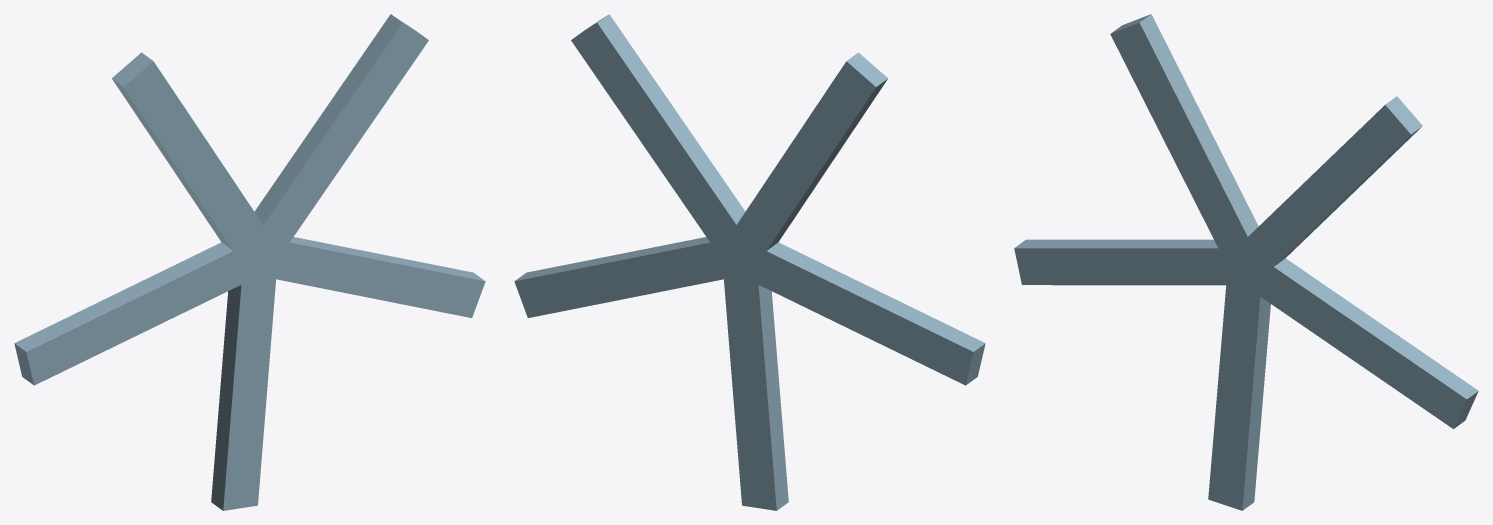
File: ventilador_fuente.obj
The picture shows the model from 3 angles, left to right: view 1: azimuth 30°, elevation 25°; view 2: azimuth 150°, elevation 25°; view 3: azimuth 330°, elevation 25°; orthographic projection.
Parts seen in each view (by area): view 1: ventilador_fuente.005, ventilador_fuente.003, ventilador_fuente.002, ventilador_fuente.004, ventilador_fuente.001; view 2: ventilador_fuente.003, ventilador_fuente.005, ventilador_fuente.002, ventilador_fuente.004, ventilador_fuente.001; view 3: ventilador_fuente.004, ventilador_fuente.001, ventilador_fuente.002, ventilador_fuente.003, ventilador_fuente.005.
Part boxes in pixels (left/top/right/bottom): ventilador_fuente.005: left=252, top=14, right=428, bottom=264; ventilador_fuente.003: left=14, top=240, right=264, bottom=385; ventilador_fuente.002: left=211, top=259, right=275, bottom=510; ventilador_fuente.004: left=112, top=52, right=262, bottom=250; ventilador_fuente.001: left=260, top=237, right=485, bottom=317; ventilador_fuente.003: left=735, top=240, right=985, bottom=385; ventilador_fuente.005: left=571, top=14, right=745, bottom=242; ventilador_fuente.002: left=722, top=254, right=788, bottom=510; ventilador_fuente.004: left=724, top=52, right=887, bottom=268; ventilador_fuente.001: left=514, top=237, right=738, bottom=317; ventilador_fuente.004: left=1110, top=14, right=1258, bottom=272; ventilador_fuente.001: left=1242, top=252, right=1478, bottom=428; ventilador_fuente.002: left=1208, top=267, right=1270, bottom=510; ventilador_fuente.003: left=1014, top=239, right=1242, bottom=285; ventilador_fuente.005: left=1248, top=96, right=1422, bottom=266.
Bounding box in the file's own units: 0.066 × 0.0645 × 0.003.
